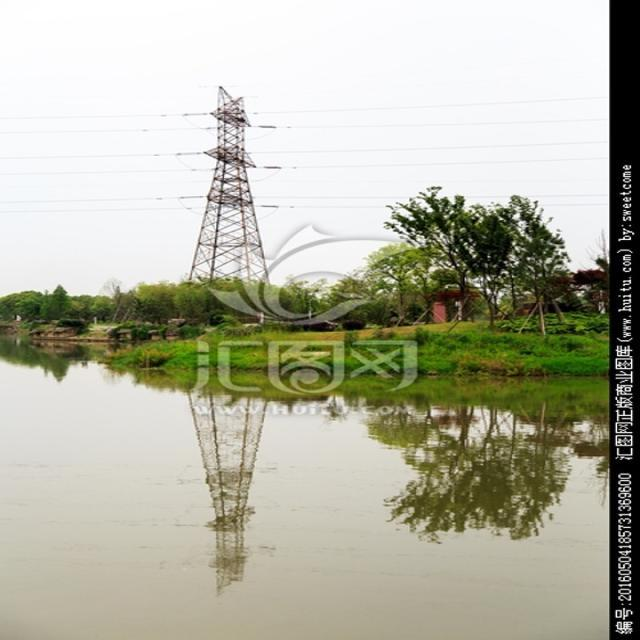non-critical vegetation: (176, 79, 278, 318)
utility poles: (350, 168, 591, 330)
